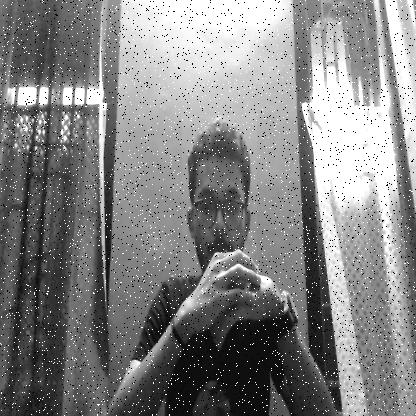Normal: (182, 115, 257, 276)
